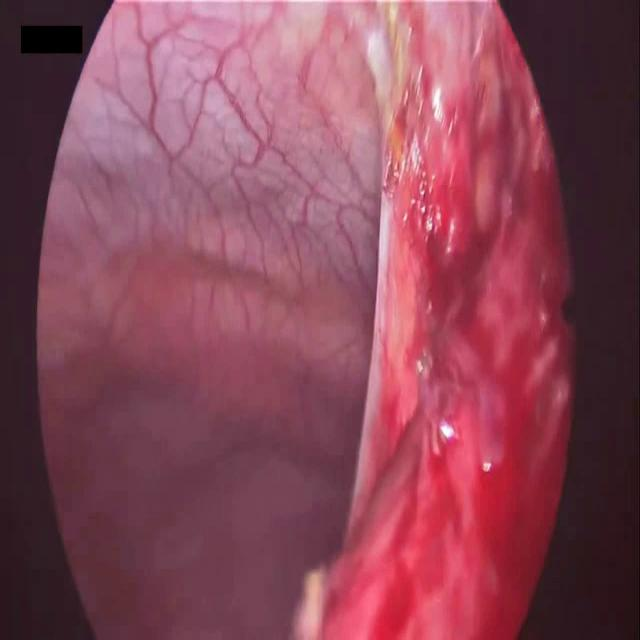surgical-area: (31, 0, 578, 639)
